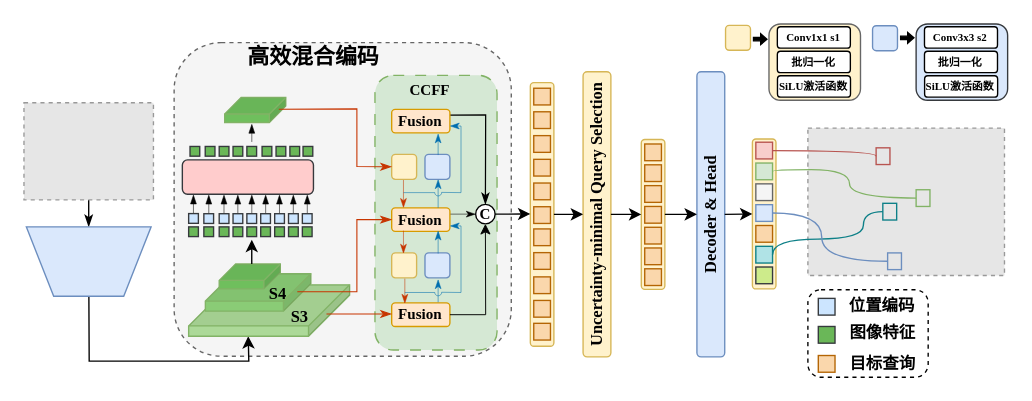
This 1032x401 diagram has some shape labels left out. Grey dashed boxes stand in for pictures. The centre of each missing label's shape, as x and y in pixels:
AIFI: [247,176]
F5: [254,109]
S5: [249,276]
骨干网络: [88,261]
